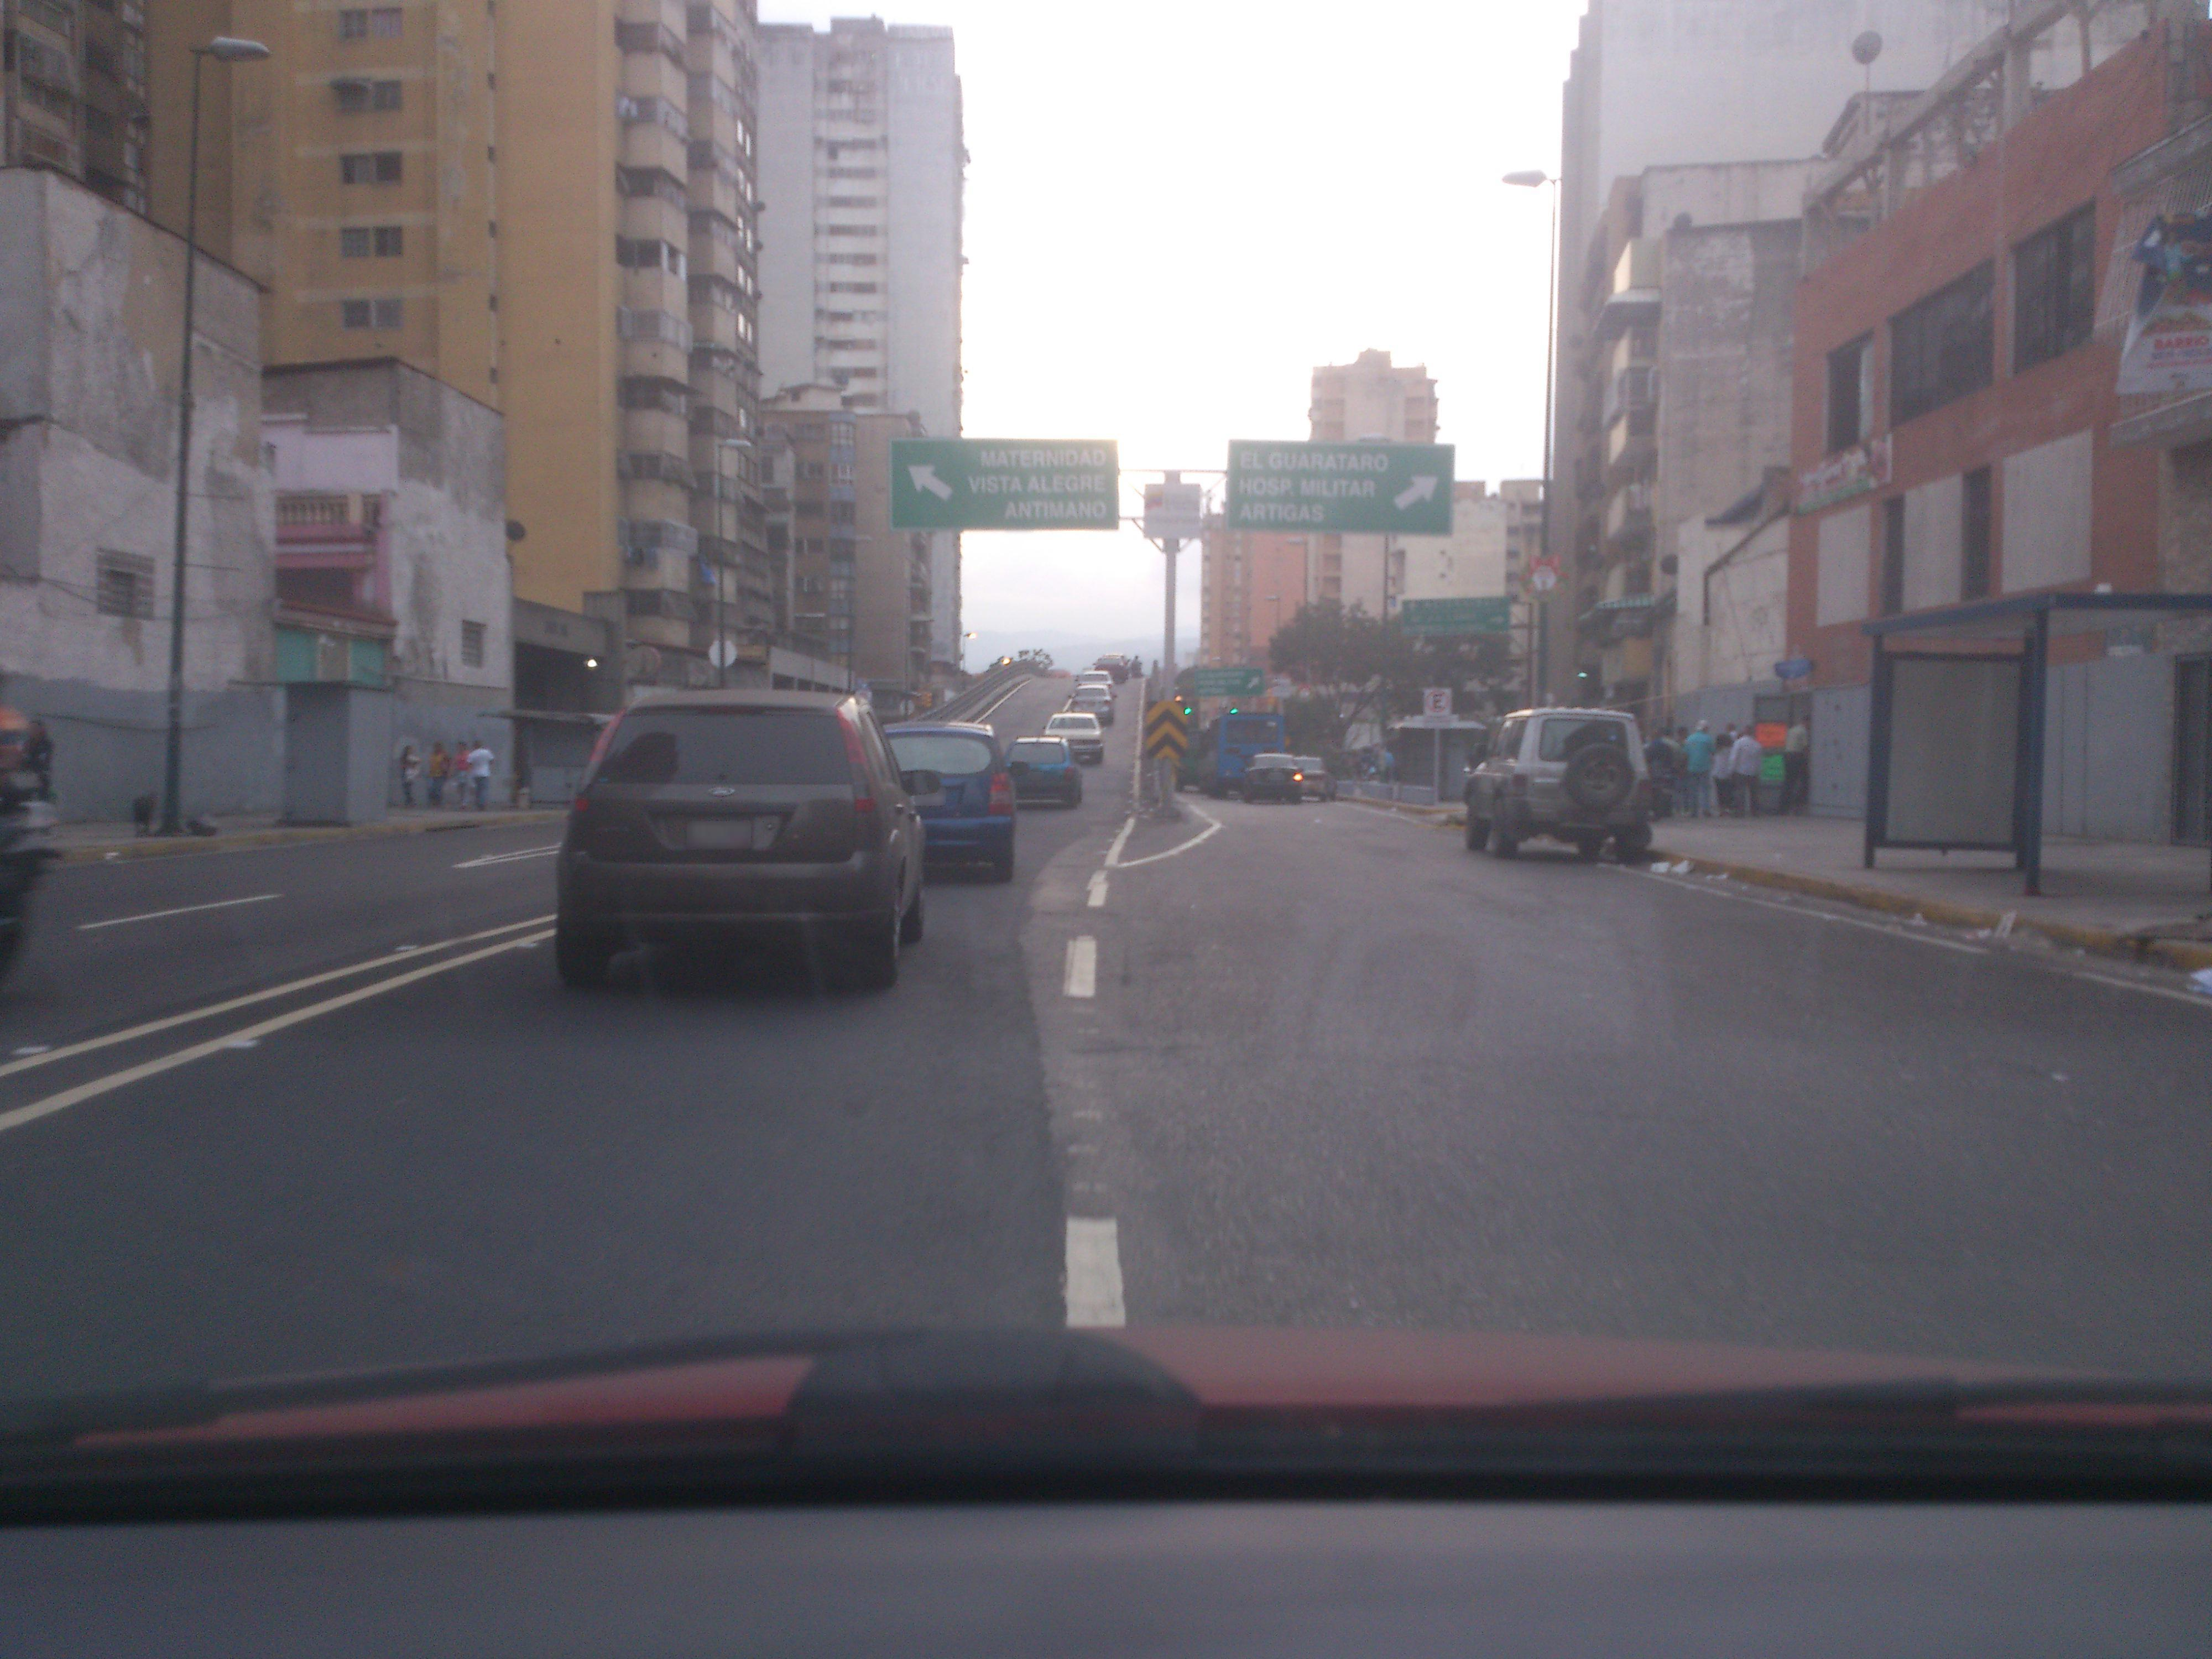vinyl banner: (2114, 192, 2212, 477), (1778, 437, 1942, 511)
